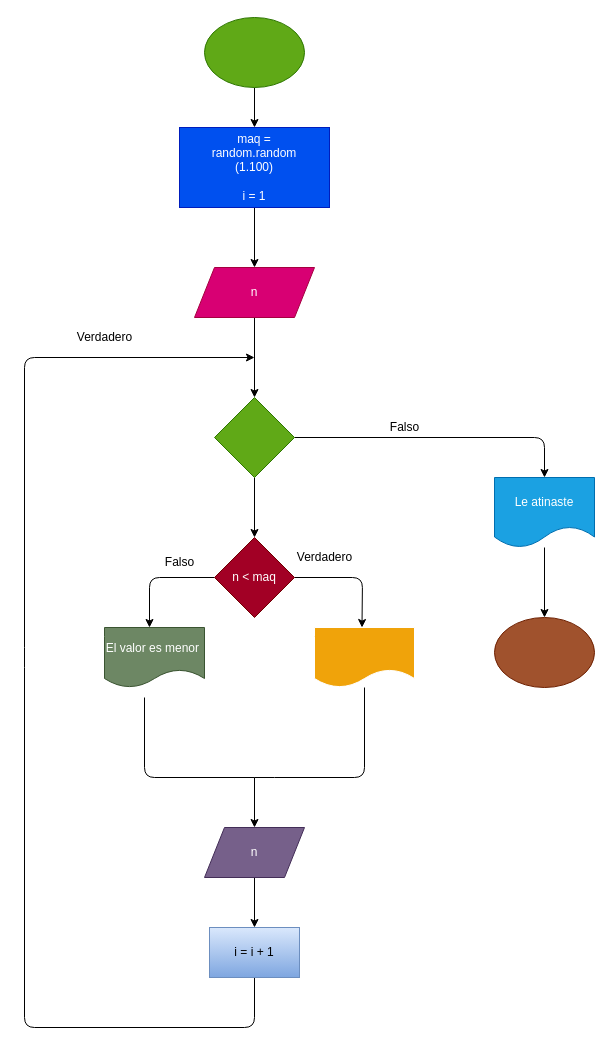
Some shapes in this 612 by 1053 pixel diagram are drawn without their labels. The shapes that lost their labels are listed below. From the top down, each one's centre as x and y in pixels, then its label:
At (254,52): "Inicio".
At (254,437): "n != maq".
At (364,657): "El valor es mayor".
At (544,652): "Fin".
